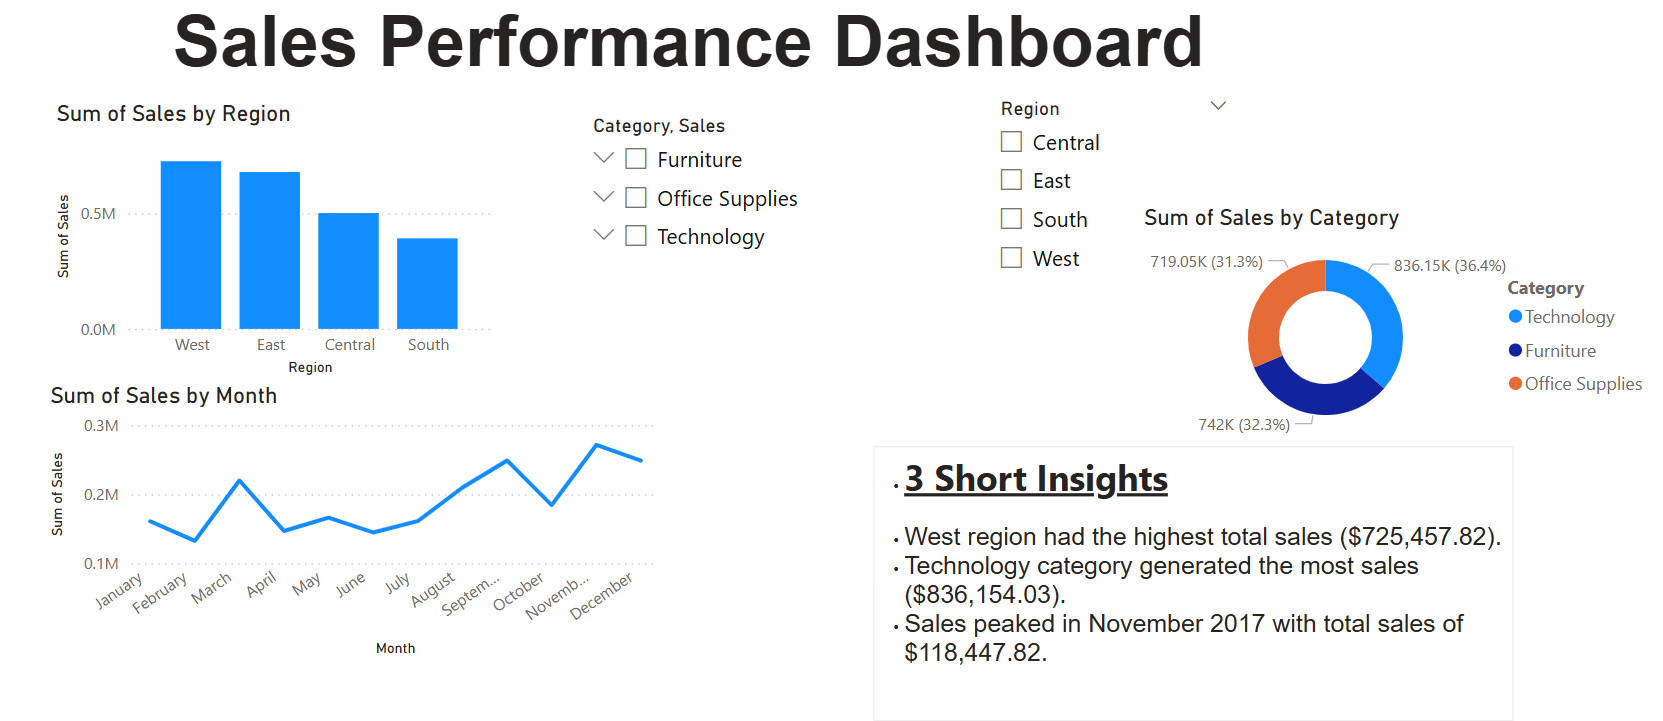

This screenshot's page, from the dashboard's own definition file:
{"tool":"powerbi","page":{"name":"Page 1","canvas":[1280,720],"ordinal":0},"visuals":[{"type":"lineChart","fields":{"Category":["superstore.Order Date","superstore.Order Date.Variation.Date Hierarchy.Month"],"Y":["Sum(superstore.Sales)"]},"box":[43.3,290,466.7,211.7],"z":0},{"type":"columnChart","fields":{"Category":["superstore.Region"],"Y":["Sum(superstore.Sales)"]},"box":[47.5,78.3,336.7,211.7],"z":1},{"type":"slicer","fields":{"Values":["superstore.Category","superstore.Sales"]},"box":[442.5,84.2,251.7,144.2],"z":2},{"type":"slicer","fields":{"Values":["superstore.Region"]},"box":[748.3,71.7,195,144.2],"z":3},{"type":"textbox","box":[665.4,338.3,479.8,206.2],"z":4},{"type":"textbox","box":[135,0,851.7,71.7],"z":6},{"type":"donutChart","fields":{"Category":["superstore.Category"],"Y":["Sum(superstore.Sales)"]},"box":[863.1,156.5,392.7,181.8],"z":7}]}

Visuals, with their boxes on the page's 1280x720 design canvas (x1, y1, x2, y2). These are canvas units, not pixel positions in the 1663x721 screenshot, which may show the page scaled, cropped or inside an application window:
lineChart - superstore.Order Date x superstore.Order Date.Variation.Date Hierarchy.Month: (x1=43, y1=290, x2=510, y2=502)
columnChart - superstore.Region x Sum(superstore.Sales): (x1=48, y1=78, x2=384, y2=290)
slicer - superstore.Category x superstore.Sales: (x1=442, y1=84, x2=694, y2=228)
slicer - superstore.Region: (x1=748, y1=72, x2=943, y2=216)
textbox: (x1=665, y1=338, x2=1145, y2=544)
textbox: (x1=135, y1=0, x2=987, y2=72)
donutChart - superstore.Category x Sum(superstore.Sales): (x1=863, y1=156, x2=1256, y2=338)
